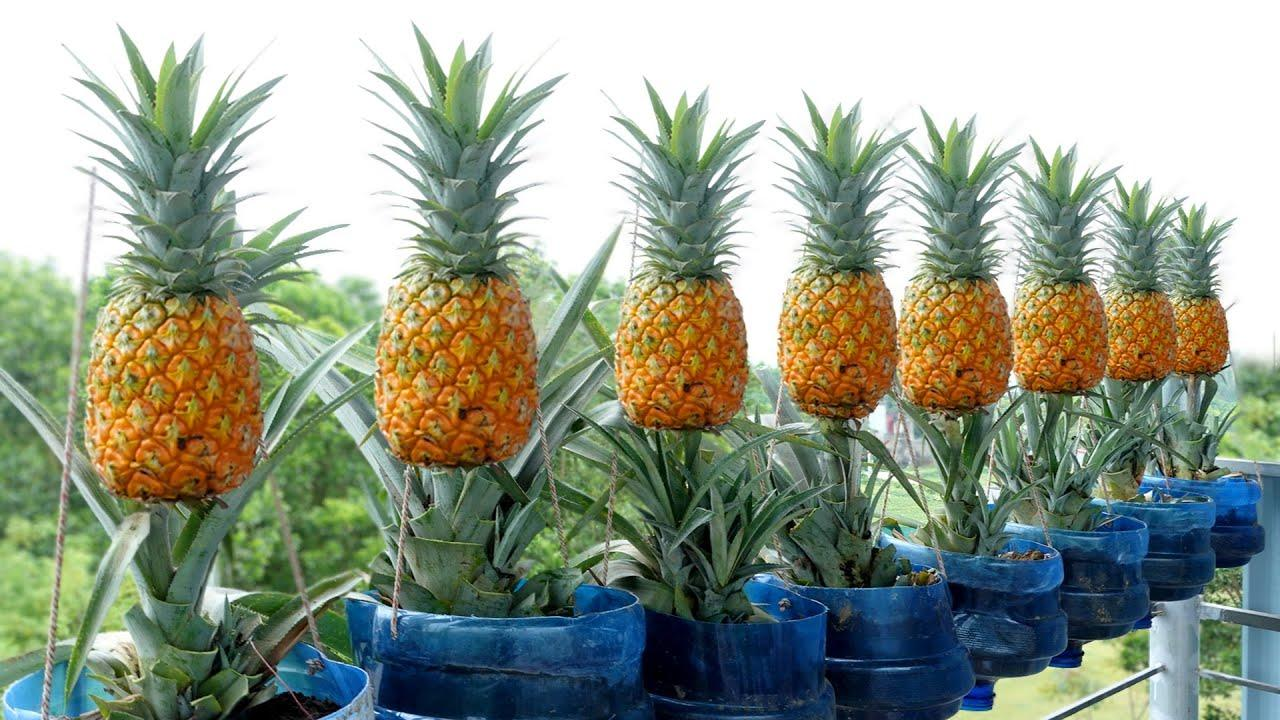pineapple: (47, 13, 335, 516), (339, 16, 584, 476), (597, 67, 775, 452), (771, 89, 899, 430), (897, 103, 1018, 420), (1021, 137, 1112, 410), (1109, 176, 1179, 385), (1174, 203, 1230, 380)
